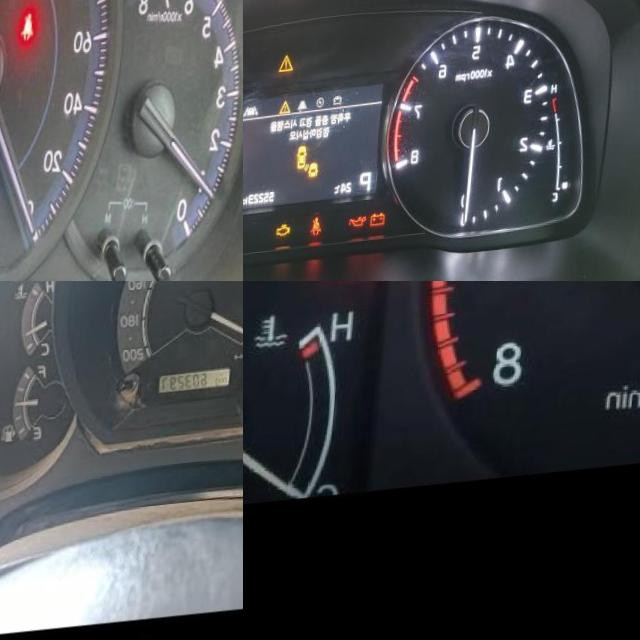Central Warning lamp: (283, 58, 300, 79)
Seat Belt: (27, 18, 43, 50)
